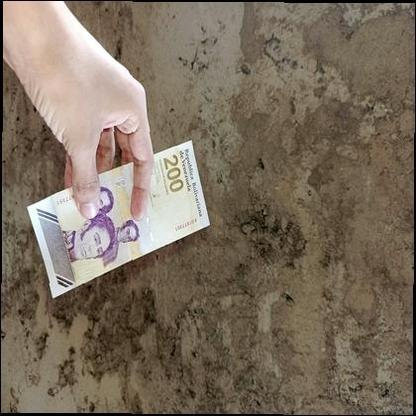two_hundred-front-vef: (26, 138, 211, 300)
